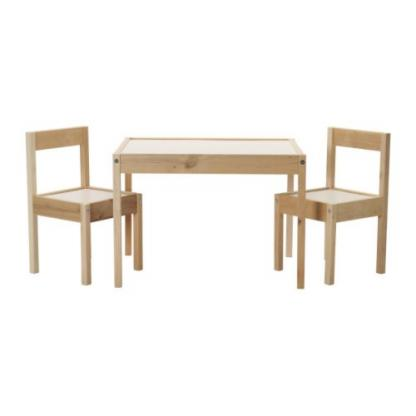Chair: (23, 124, 146, 288), (272, 127, 392, 285)
Table: (113, 134, 308, 291)
